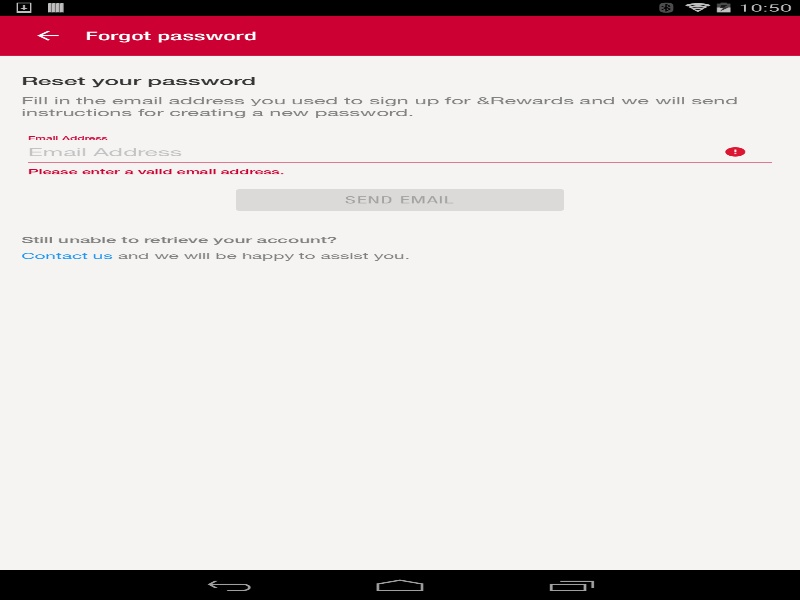Button: (236, 189, 564, 210), (10, 18, 85, 53)
Input: (28, 142, 772, 162)
